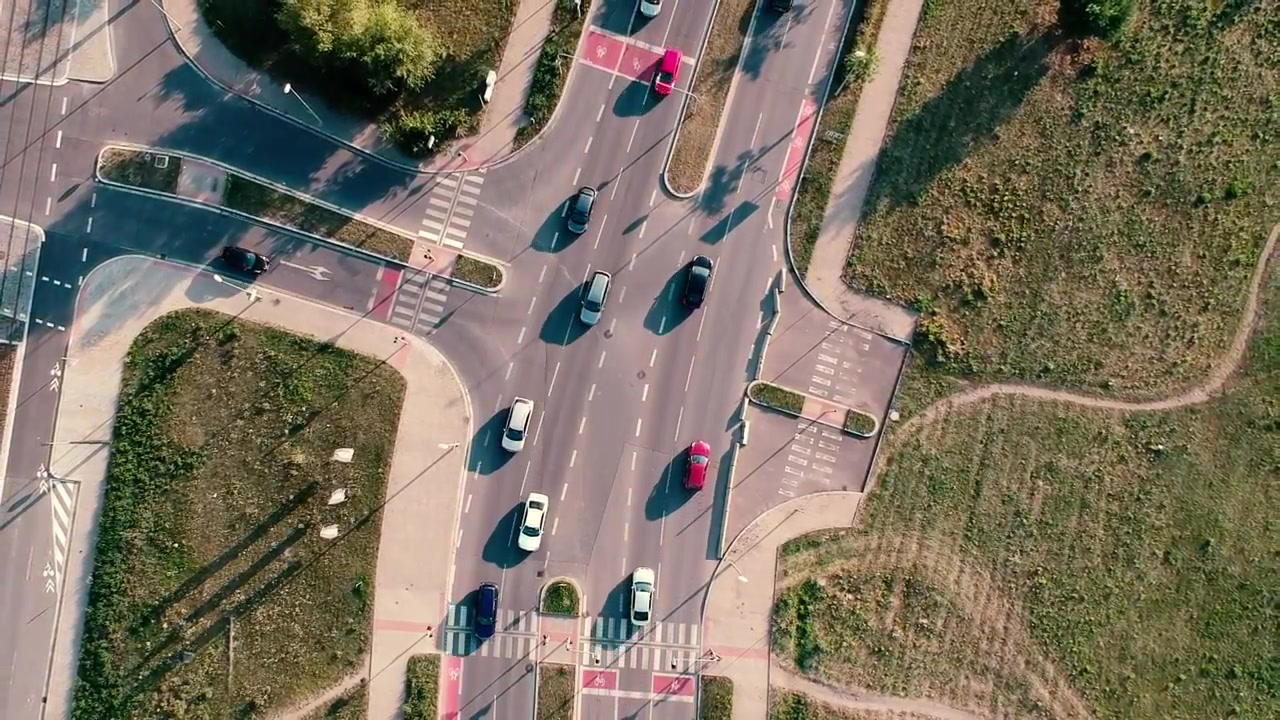car: (575, 268, 615, 330), (515, 491, 552, 554), (678, 253, 716, 313), (500, 395, 537, 455), (563, 184, 599, 240), (214, 245, 272, 279), (472, 580, 501, 645), (679, 436, 712, 493), (626, 565, 654, 628), (650, 46, 683, 98), (638, 1, 665, 21)
